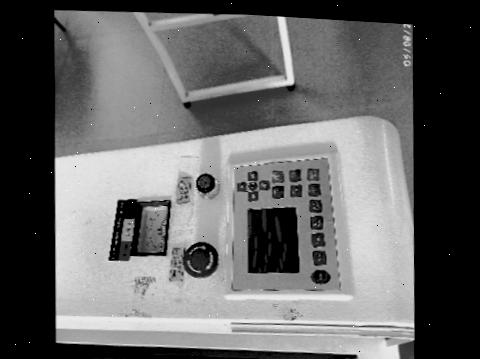Amp_Meter: (132, 199, 171, 254)
Display: (248, 205, 300, 271)
Down_button: (259, 178, 270, 189)
Emergency_Stop: (183, 240, 219, 277)
Enter_button: (272, 167, 285, 181)
Esc_button: (273, 183, 285, 197)
File_button: (308, 181, 321, 195)
Frame_button: (290, 168, 302, 180)
Left_button: (249, 190, 258, 200)
Max-Power_button: (310, 198, 323, 211)
Min-Power_button: (311, 213, 324, 228)
Origin_button: (291, 183, 303, 196)
Power_switch: (196, 171, 220, 197)
Pulse_button: (314, 249, 327, 263)
Reset_button: (312, 268, 331, 282)
Right_button: (249, 169, 258, 180)
Speed_button: (312, 231, 326, 246)
Start-Pause_button: (307, 166, 320, 180)
Up_button: (237, 179, 248, 190)
Z_U_button: (249, 180, 258, 189)
